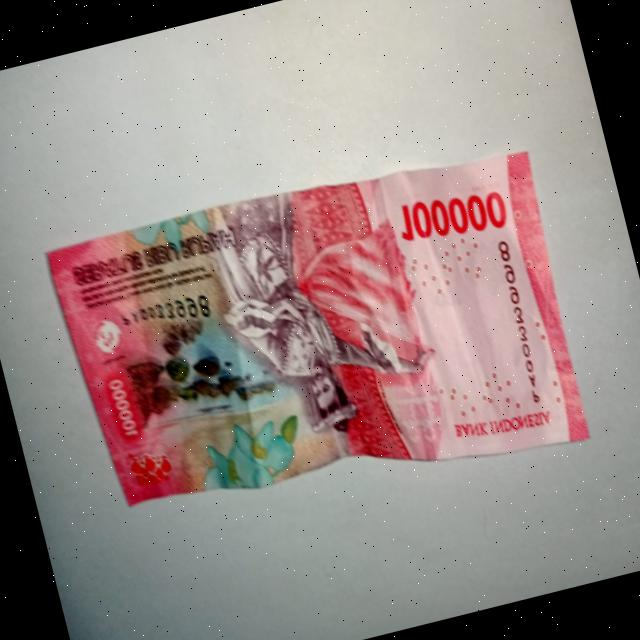100K: (38, 125, 601, 562)
